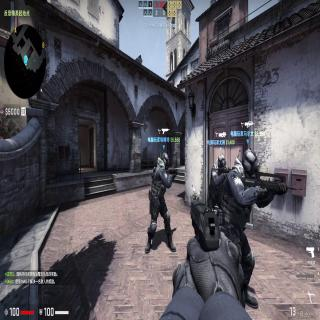CT-Body: (144, 150, 176, 252)
CT-Head: (243, 147, 261, 185), (160, 149, 170, 170), (216, 154, 226, 172)
